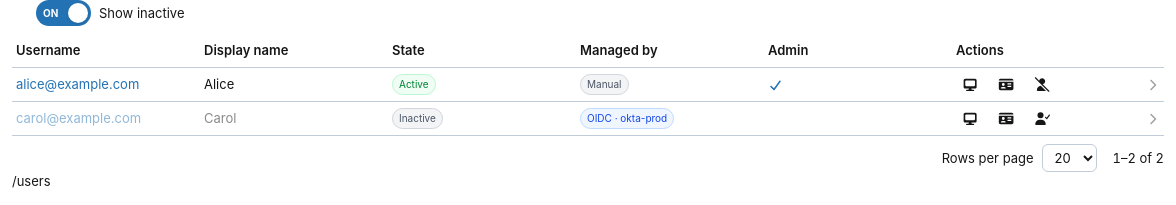
Test: UsersPage › admin › hides inactive users when the Show inactive toggle is off
Expected: the link "carol@example.com" is shown, [16,110,141,126]
Click the switch.
click(110, 13)  # box [36,0,184,26]
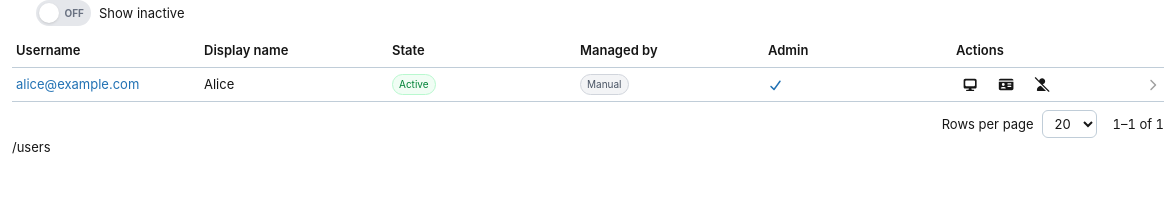
Expected: the link "carol@example.com" is gone
